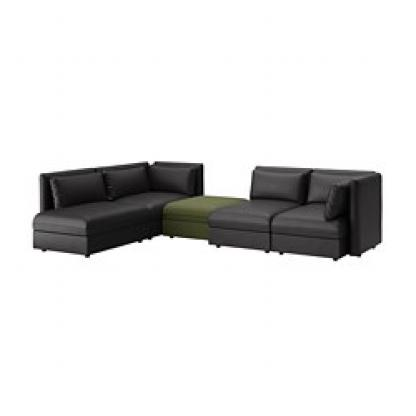Sofa: (18, 144, 386, 284)
